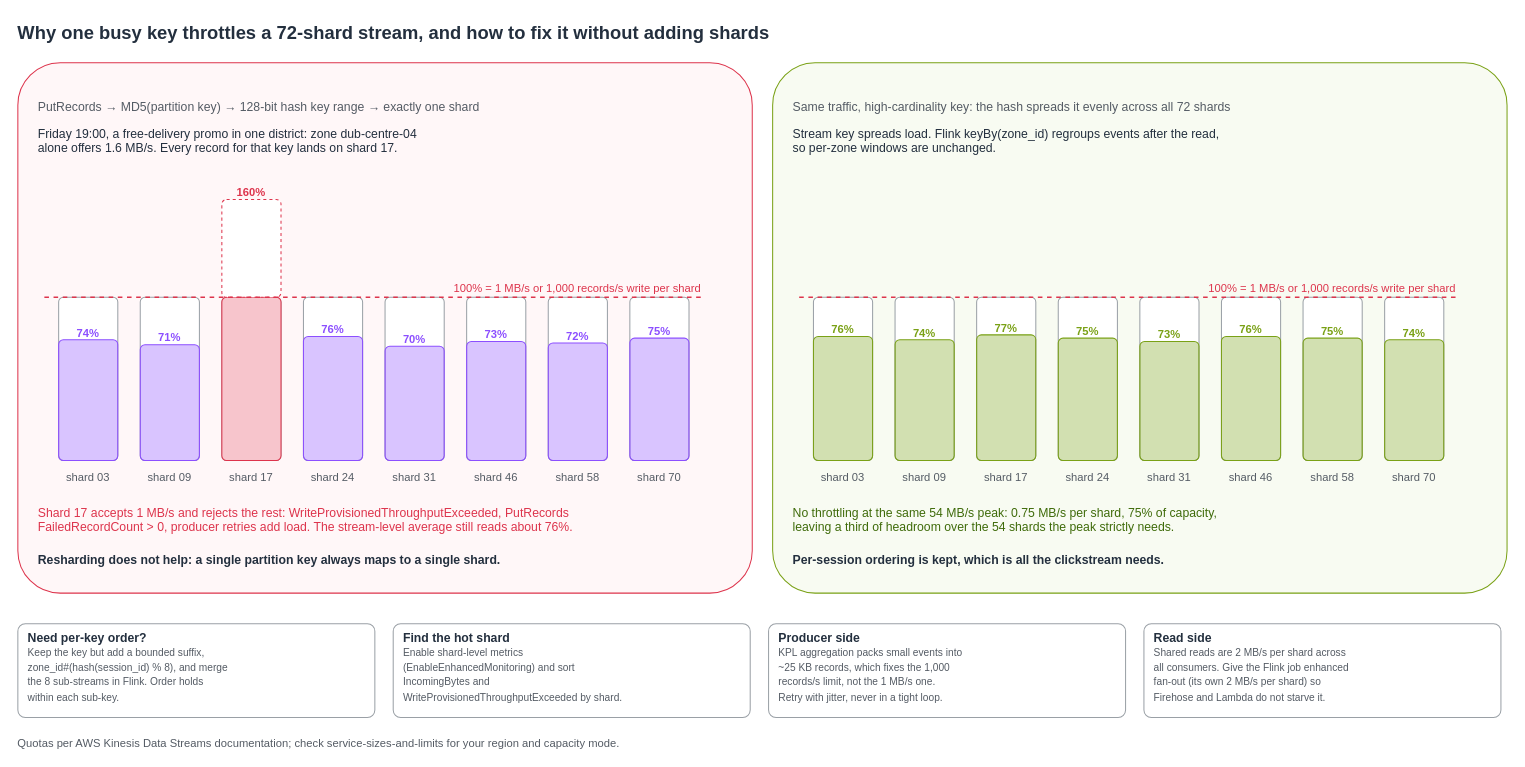
This 1525x767 diagram has some shape labels left out. Each missing label, with the box of its shape:
After: partition key = session_id (about 400,000 live sessions): (772, 62, 1507, 593)
Before: partition key = zone_id (1,200 delivery zones): (17, 62, 752, 593)
